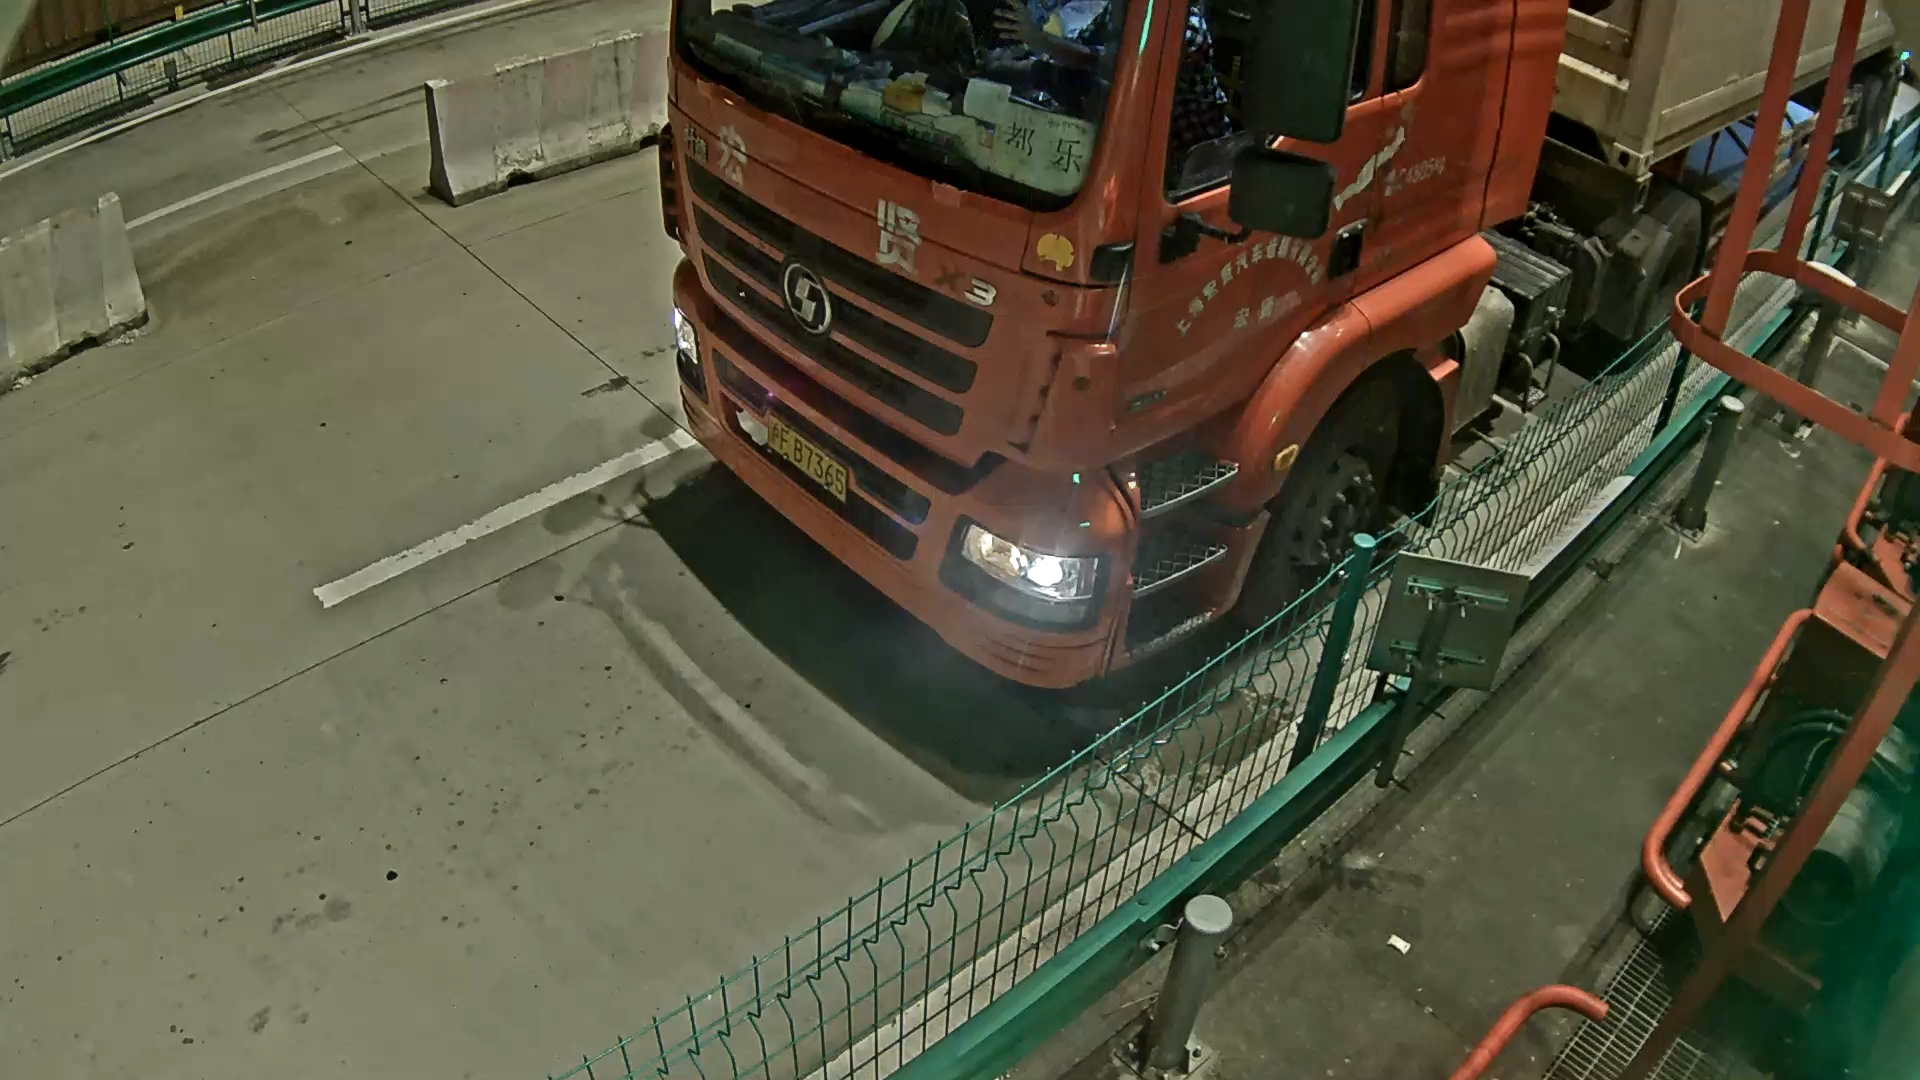head: (663, 1, 1565, 684)
plate: (760, 411, 846, 495)
